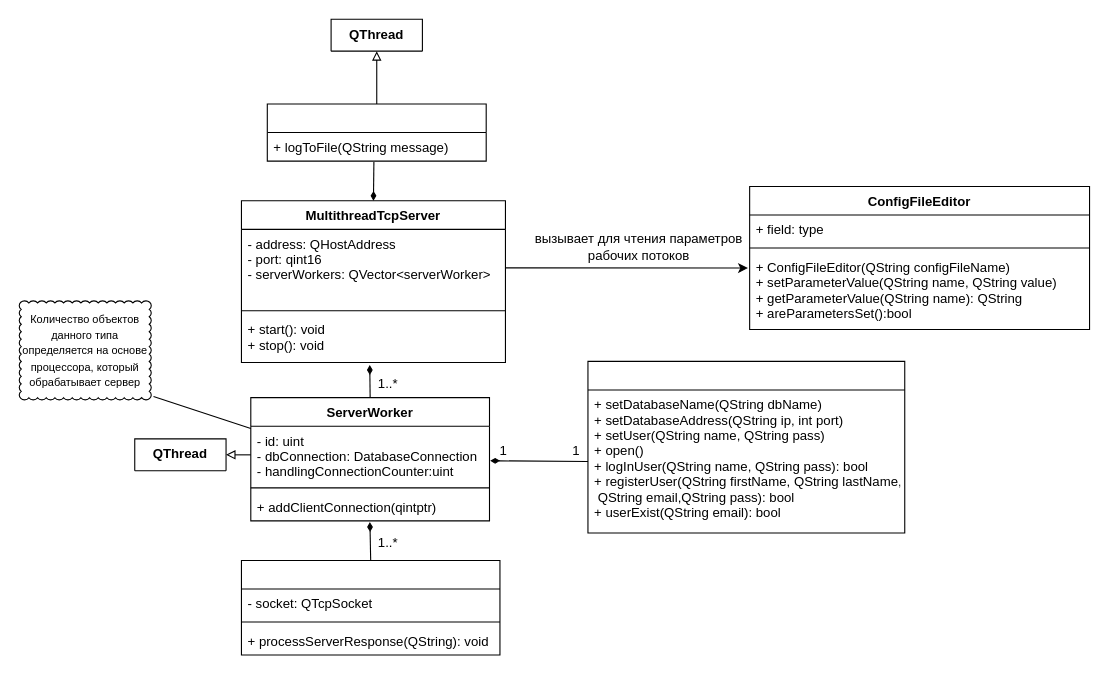
The diagram is 1109 pixels wide and 678 high, and some of its shapes have lost their labels. The shapes that lost their labels are listed below. From the top down, each one's box as (x1, y1, x2, y2) in pixels, then its label:
(266, 103, 486, 161): LogSystem
(587, 360, 905, 533): DatabaseConnection
(240, 559, 500, 655): ClientConnection
